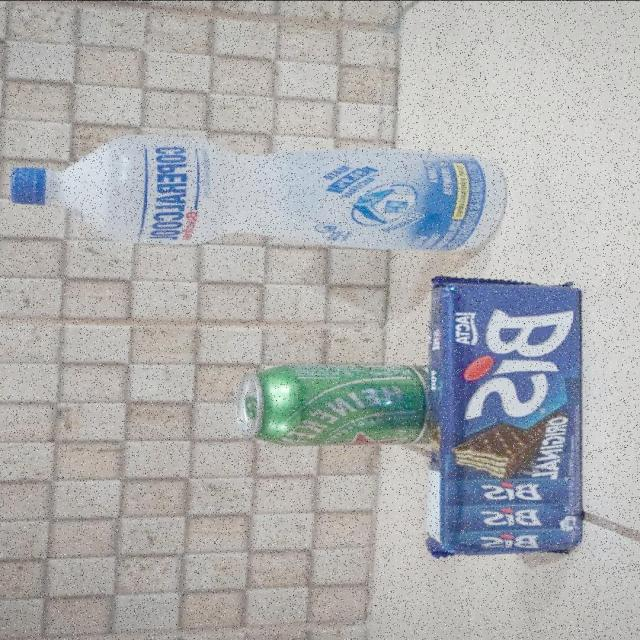AlcoholBottle: (8, 134, 504, 252)
BeerCan: (238, 363, 430, 449)
